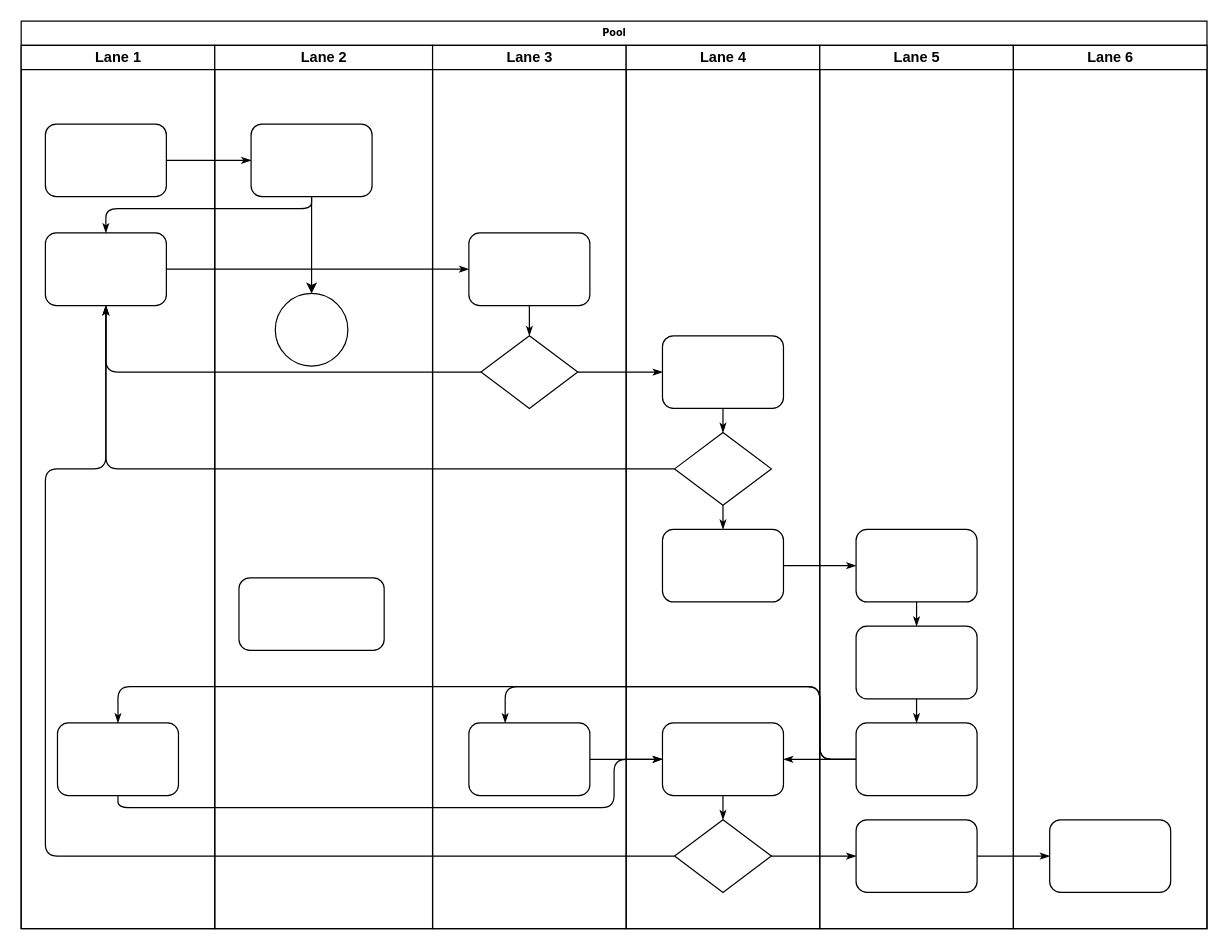
This 1228x950 diagram has some shape labels left out. Here are the shapes that lost their labels. From the top down, the centre of each, then its label:
At point (105, 160): "服务器".
At point (311, 160): "路由器".
At point (311, 613): "客户端".
